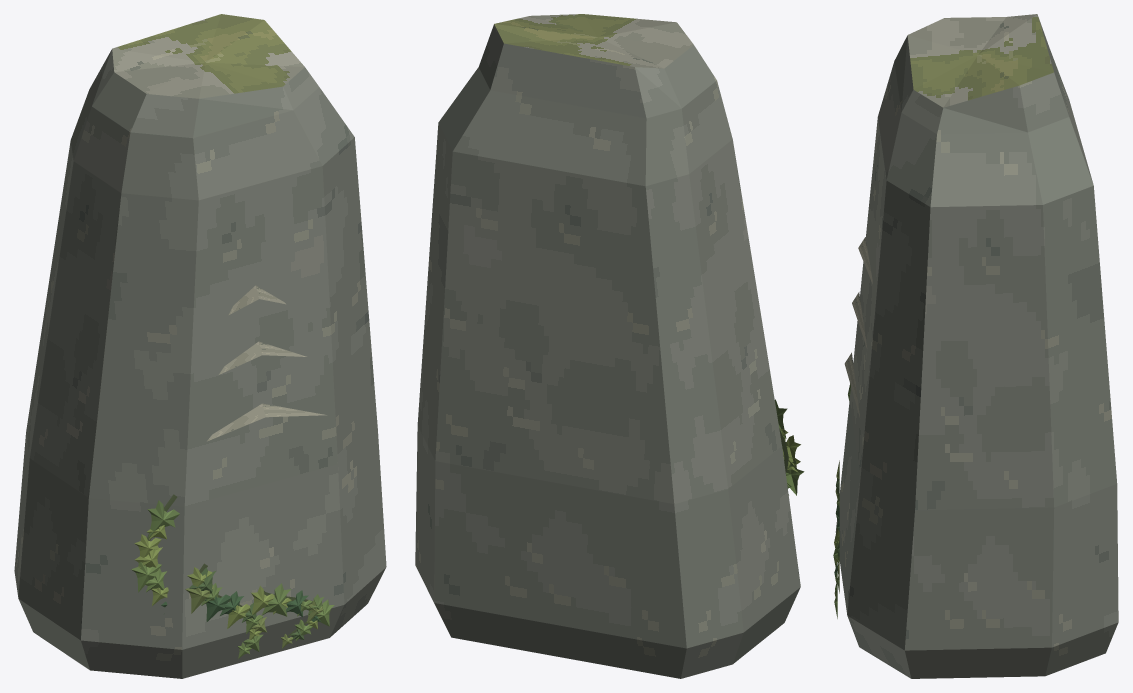
The model's file is standing_stone.glb.
3 renders of one model, left to right at view 1: azimuth 30°, elevation 25°; view 2: azimuth 150°, elevation 25°; view 3: azimuth 270°, elevation 25°, orthographic. The views are drawn at different scales.
Parts seen in each view (by area): view 1: standing_stone; view 2: standing_stone; view 3: standing_stone.
Part boxes in pixels (x1=…): standing_stone: x1=14, y1=14, x2=386, y2=678; standing_stone: x1=415, y1=14, x2=804, y2=678; standing_stone: x1=833, y1=14, x2=1118, y2=678.
Size of the model in its own units: 1.74 by 3 by 1.36.
Materials: 2 (1 with a texture image).
